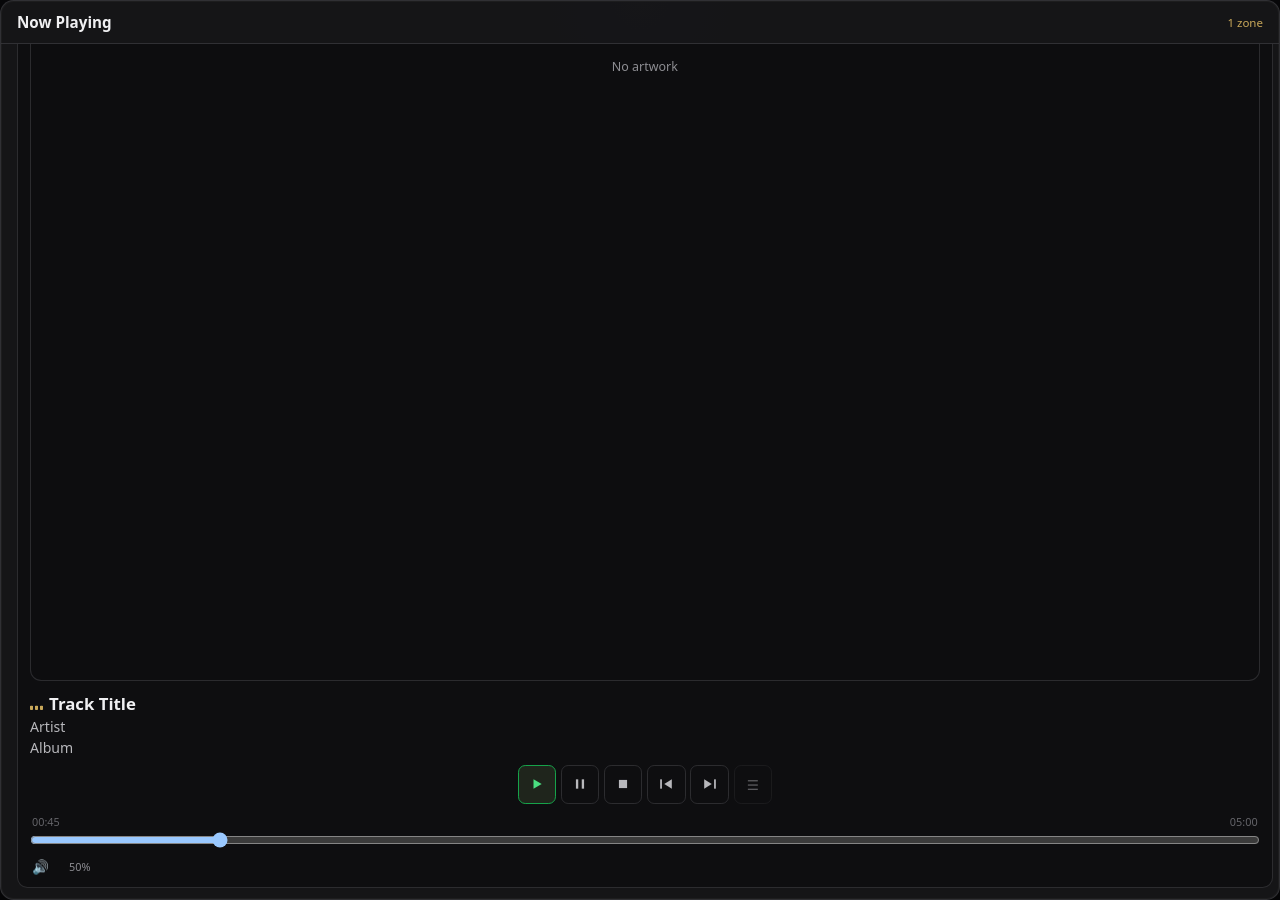
it: ZoneStatusPanel — zone card lifecycle › clicking volume toggle reveals the slider
(page scrolled)
Click the button named "Show volume slider".
click(73, 866)  # box x1=55 y1=859 x2=91 y2=874
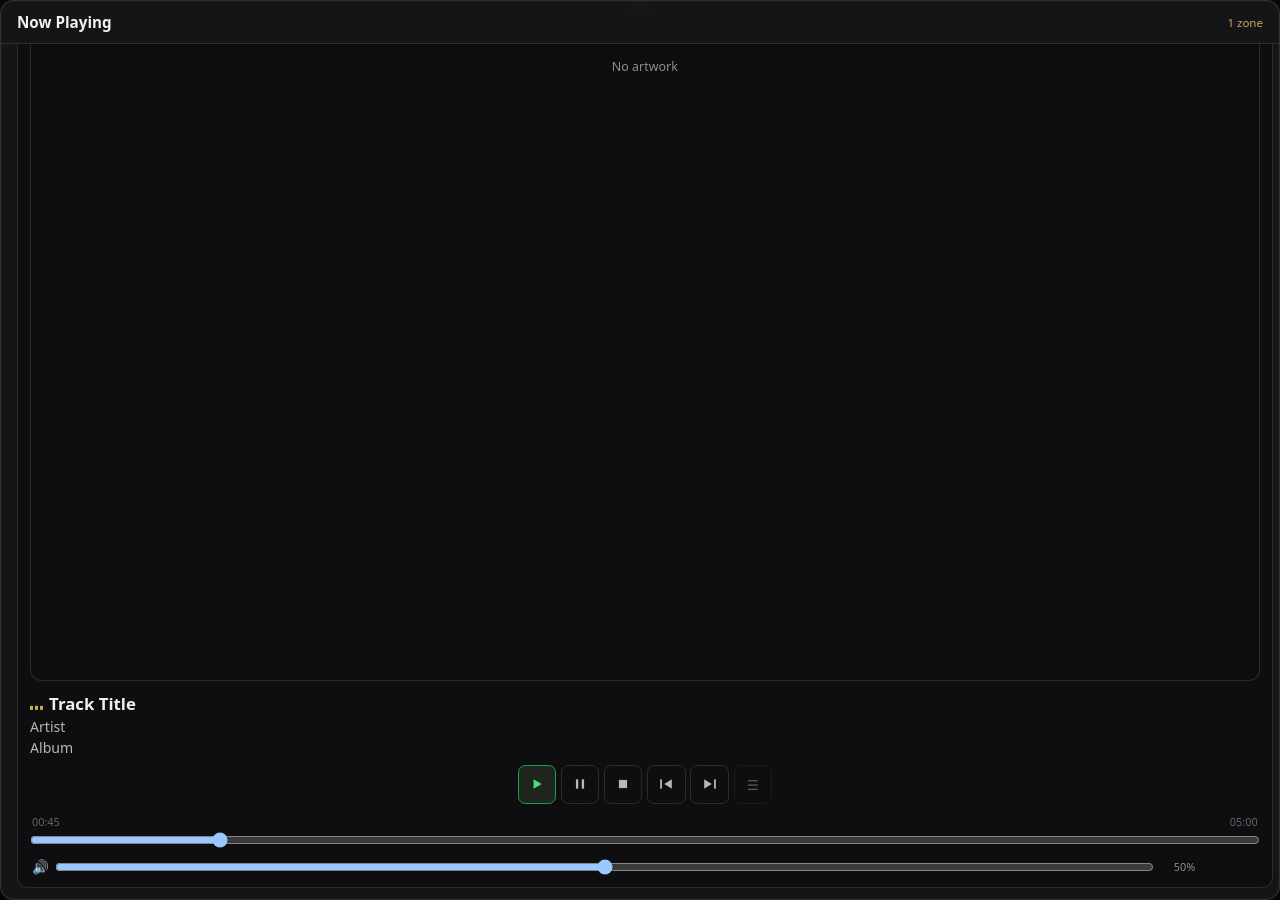
Expected: the slider named "Volume" is shown, x1=55 y1=858 x2=1154 y2=874
Expected: the button named "Hide volume slider" is shown, x1=1160 y1=859 x2=1195 y2=874
